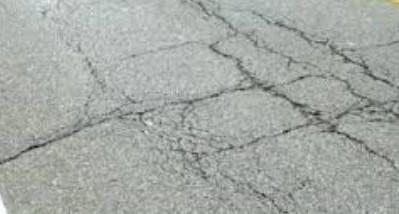alligator-crack: (11, 28, 399, 214)
